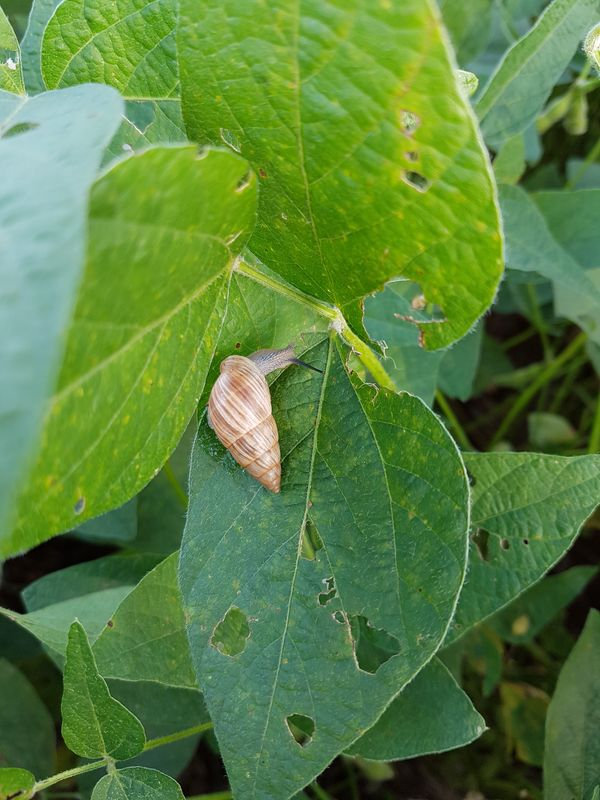Gastropoda: (185, 334, 331, 508)
